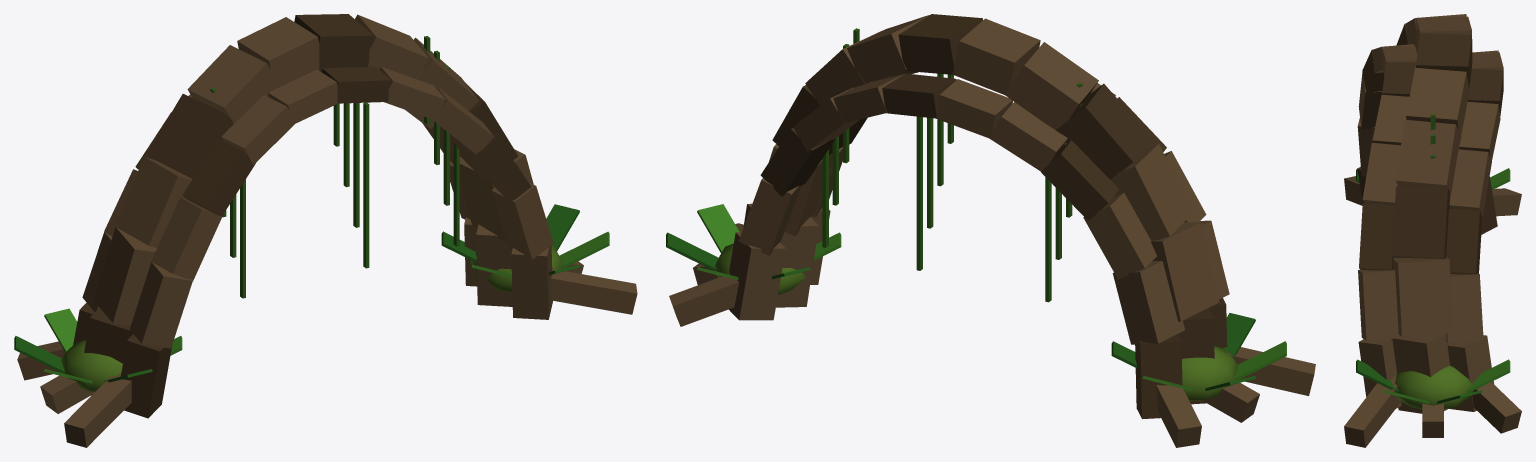
Rendered from jt_tree_root_arch.glb.
The picture shows the model from 3 angles, left to right: view 1: azimuth 30°, elevation 25°; view 2: azimuth 150°, elevation 25°; view 3: azimuth 270°, elevation 25°; orthographic projection. The views are drawn at different scales.
Visible parts, largest first — view 1: jt_tree_root_arch; view 2: jt_tree_root_arch; view 3: jt_tree_root_arch.
Part boxes in pixels (left/top/right/bottom): jt_tree_root_arch: left=14, top=14, right=637, bottom=447; jt_tree_root_arch: left=666, top=14, right=1315, bottom=447; jt_tree_root_arch: left=1344, top=14, right=1521, bottom=447.
Bounding box in the file's own units: 6.97 × 3.67 × 2.05.
